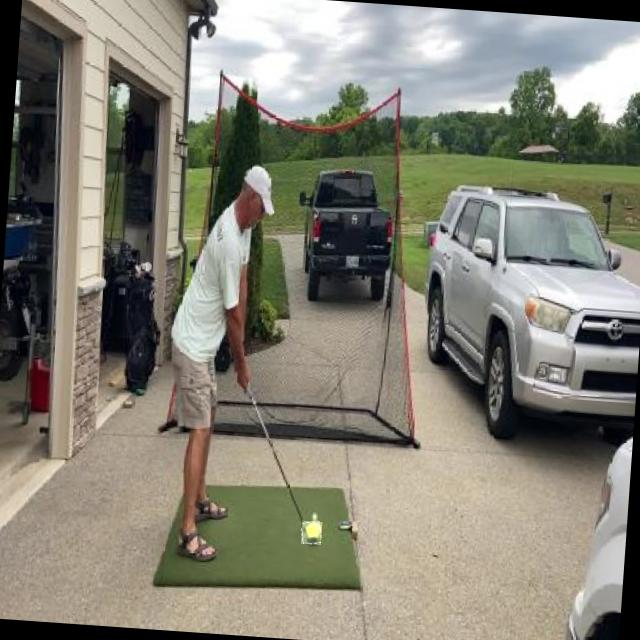club head: (300, 520, 322, 544)
